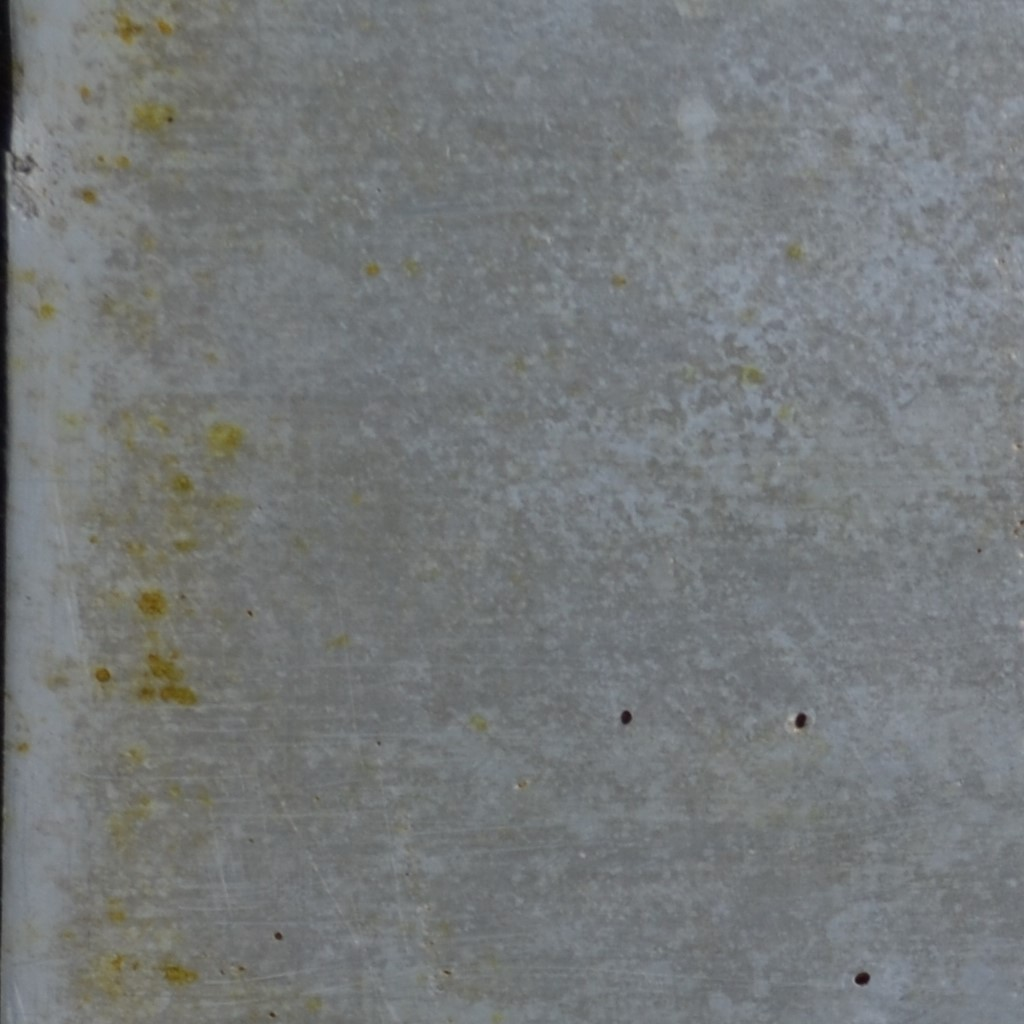varroa: (850, 968, 873, 989), (792, 707, 809, 730), (618, 707, 635, 727)
